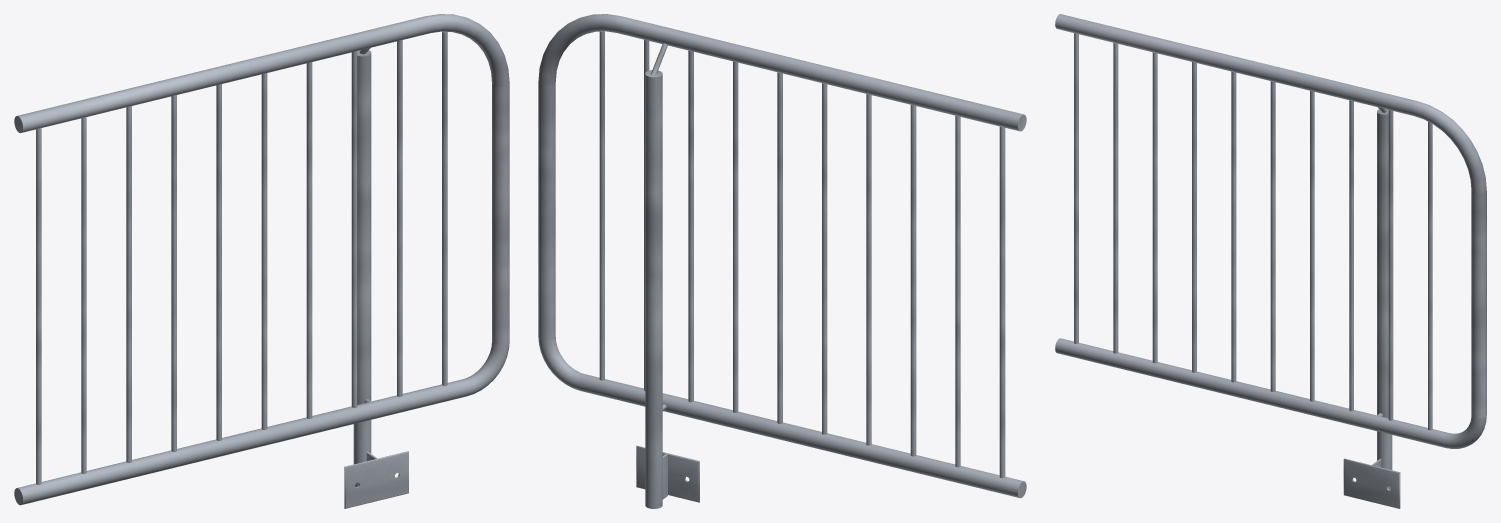
File: gelaender-ende-links.gltf
The picture shows the model from 3 angles, left to right: view 1: azimuth 30°, elevation 25°; view 2: azimuth 150°, elevation 25°; view 3: azimuth 330°, elevation 25°; orthographic projection. The views are drawn at different scales.
Parts seen in each view (by area): view 1: SK0029_Geländer-Ende_links.001; view 2: SK0029_Geländer-Ende_links.001; view 3: SK0029_Geländer-Ende_links.001.
Part boxes in pixels (<box>): SK0029_Geländer-Ende_links.001: <box>14,14,509,508</box>; SK0029_Geländer-Ende_links.001: <box>538,14,1026,508</box>; SK0029_Geländer-Ende_links.001: <box>1055,14,1486,508</box>.
Bounding box in the file's own units: 1.22 × 1.12 × 0.102.
Materials: 1 (1 with a texture image).
